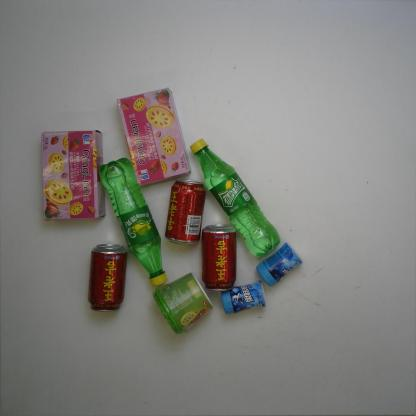Dessert: (116, 87, 192, 186), (40, 130, 106, 221)
Drink: (190, 138, 280, 258), (98, 157, 167, 286), (87, 244, 129, 312), (164, 178, 206, 245), (201, 223, 238, 291)
Gum: (256, 242, 303, 287), (220, 280, 266, 314)
Instant Drink: (152, 272, 214, 335)
